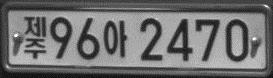0: (224, 17, 250, 62)
2: (138, 17, 163, 61)
4: (165, 17, 194, 61)
6: (76, 16, 100, 60)
7: (194, 17, 221, 62)
9: (49, 16, 73, 59)
아: (102, 18, 127, 58)
제주_V: (22, 15, 47, 60)
